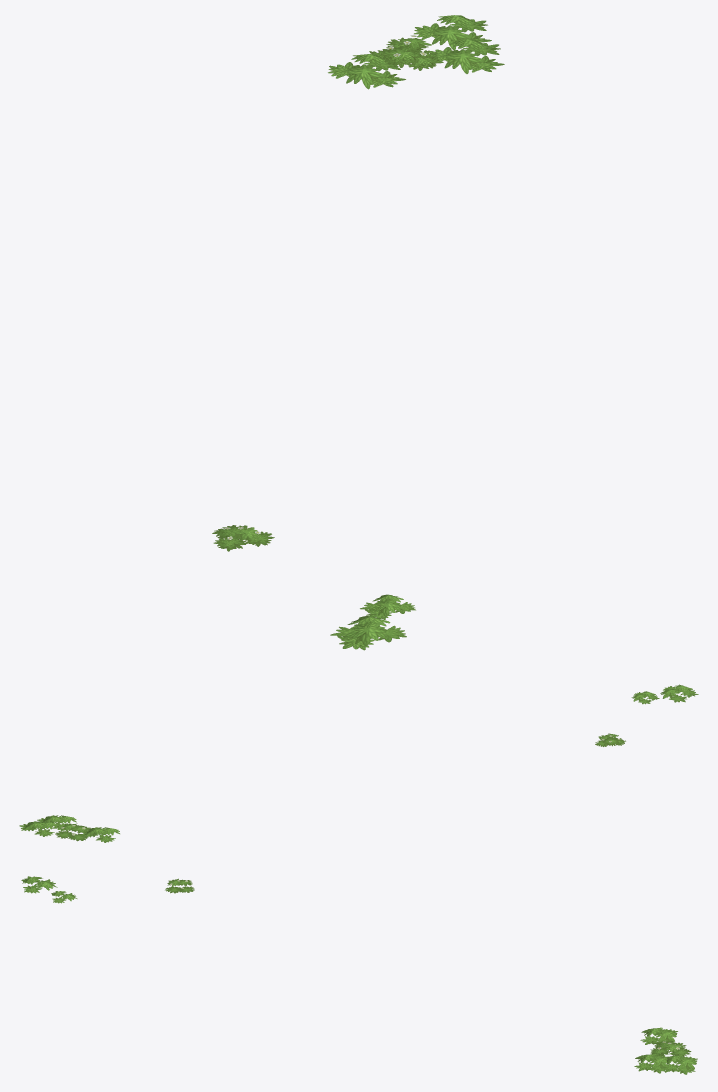
The model's file is Area_06_10.fbx.
The picture shows the model from 3 angles, top to bottom: view 1: azimuth 30°, elevation 25°; view 2: azimuth 150°, elevation 25°; view 3: azimuth 270°, elevation 25°; orthographic projection. The views are drawn at different scales.
Parts seen in each view (by area): view 1: Area_06_10; view 2: Area_06_10; view 3: Area_06_10.
Boxes of the visible parts, box(x1,y1,x2,y2) form: Area_06_10: box(212, 15, 504, 650); Area_06_10: box(19, 684, 698, 842); Area_06_10: box(21, 876, 697, 1074).
Size of the model in its own units: 3003 by 68.09 by 4311.
